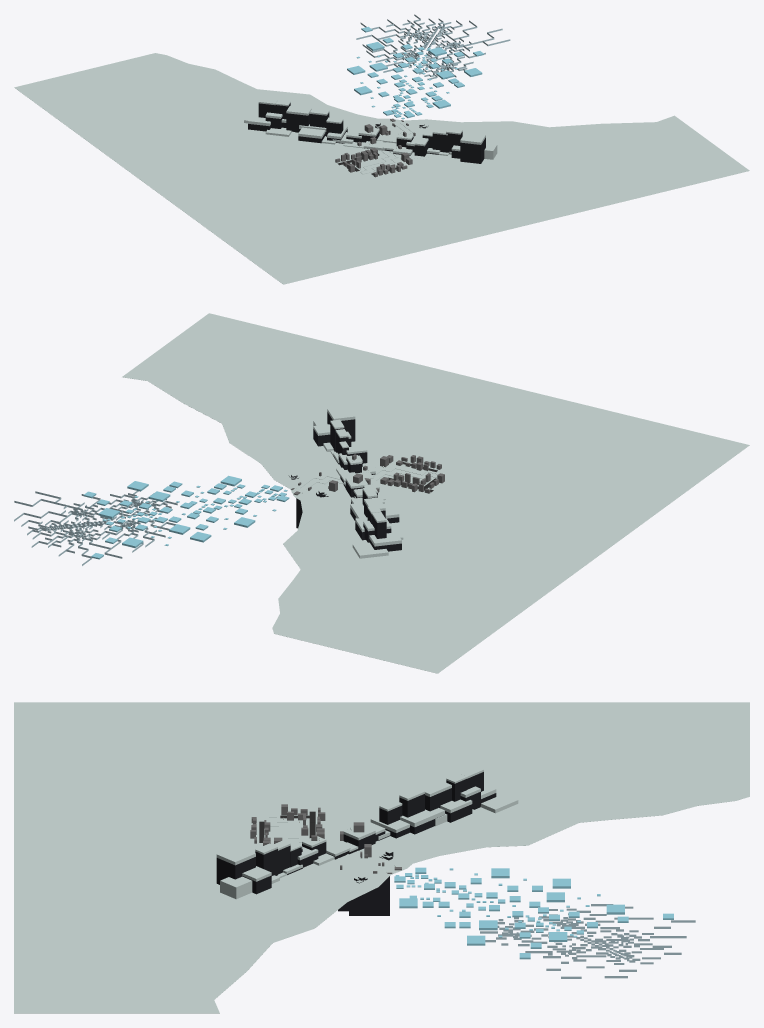
Rendered from Place 5.fbx.
3 renders of one model, top to bottom at view 1: azimuth 30°, elevation 25°; view 2: azimuth 150°, elevation 25°; view 3: azimuth 270°, elevation 25°, orthographic. The views are drawn at different scales.
Visible parts, largest first — view 1: Snowy Lake Bank, Beach Cliff, Buildings; view 2: Snowy Lake Bank, Beach Cliff, Buildings; view 3: Snowy Lake Bank, Beach Cliff, Line1.1Path.001, Buildings.
Part boxes in pixels (x1,y1,x2,y2): Snowy Lake Bank: [14, 53, 749, 284]; Beach Cliff: [244, 98, 497, 163]; Buildings: [335, 118, 415, 177]; Snowy Lake Bank: [122, 313, 749, 673]; Beach Cliff: [313, 406, 403, 558]; Buildings: [291, 455, 444, 495]; Snowy Lake Bank: [14, 702, 749, 1013]; Beach Cliff: [216, 766, 518, 899]; Line1.1Path.001: [268, 817, 389, 915]; Buildings: [250, 804, 401, 873].
Size of what is drawn, in the model's own units: 60000 by 6946 by 60000.
